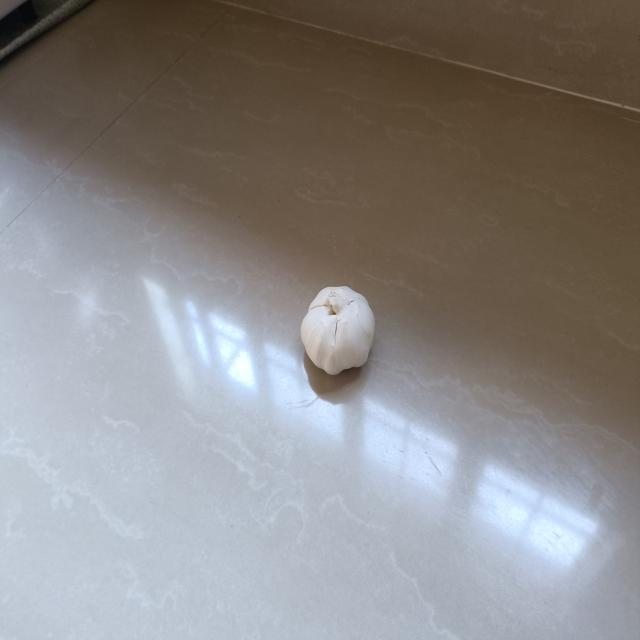garlic: (299, 281, 382, 379)
